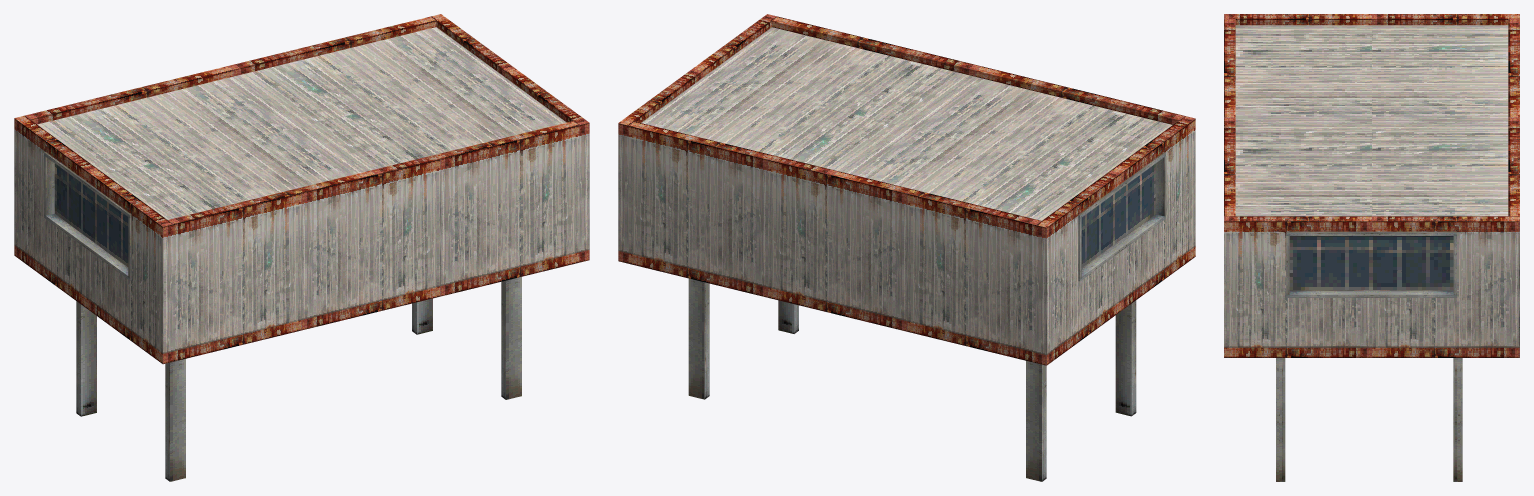
The model's file is warehouse.glb.
3 views of the same model, side by side, from view 1: azimuth 30°, elevation 25°; view 2: azimuth 150°, elevation 25°; view 3: azimuth 270°, elevation 25° (orthographic).
Size of the model in its own units: 8.71 by 5.46 by 5.21.
1 material, 1 textured.
